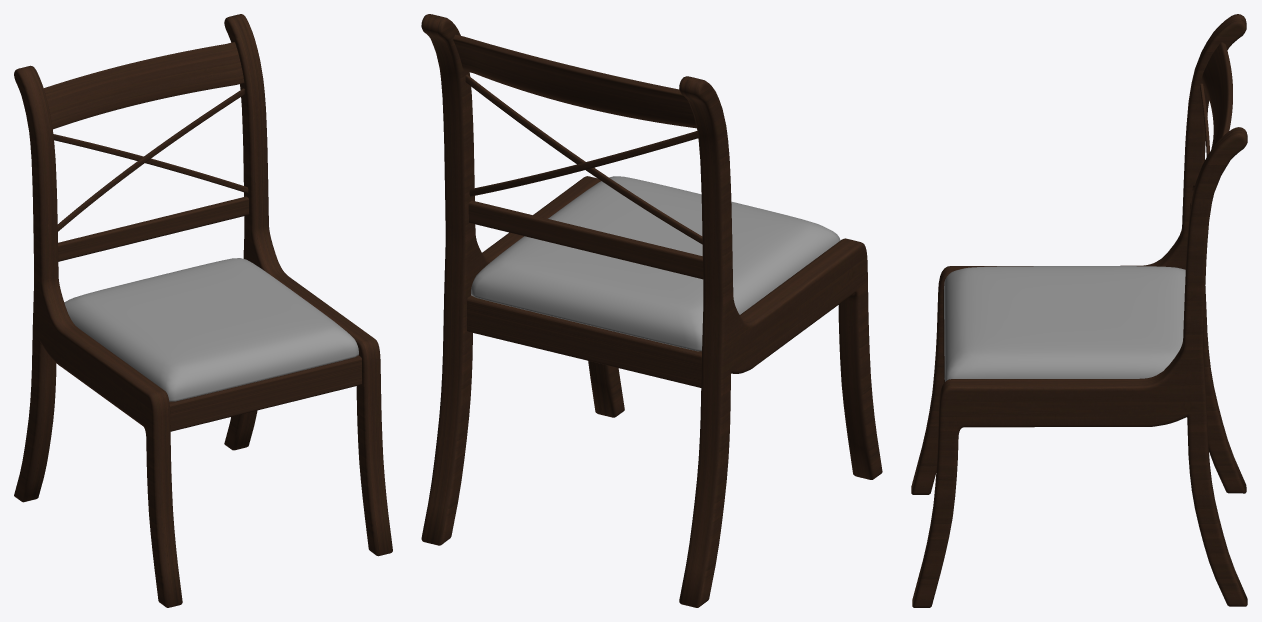
Rendered from Chair 4.FBX.
3 views of the same model, side by side, from view 1: azimuth 30°, elevation 25°; view 2: azimuth 150°, elevation 25°; view 3: azimuth 270°, elevation 25° (orthographic). The views are drawn at different scales.
Visible parts, largest first — view 1: chair; view 2: chair; view 3: chair.
Boxes of the visible parts, x1=… form: chair: x1=14, y1=14, x2=392, y2=607; chair: x1=421, y1=14, x2=882, y2=607; chair: x1=911, y1=14, x2=1247, y2=607.
Size of the model in its own units: 52.57 by 94.28 by 60.74.
2 materials, 1 textured.
